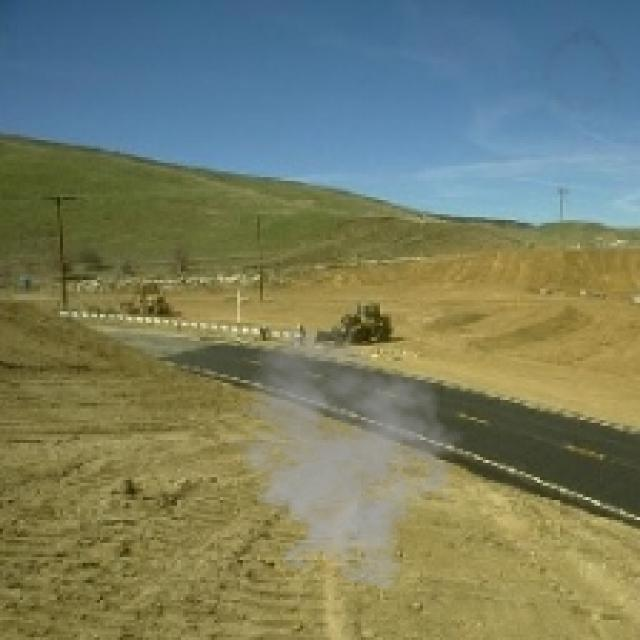smoke: (214, 323, 466, 591)
